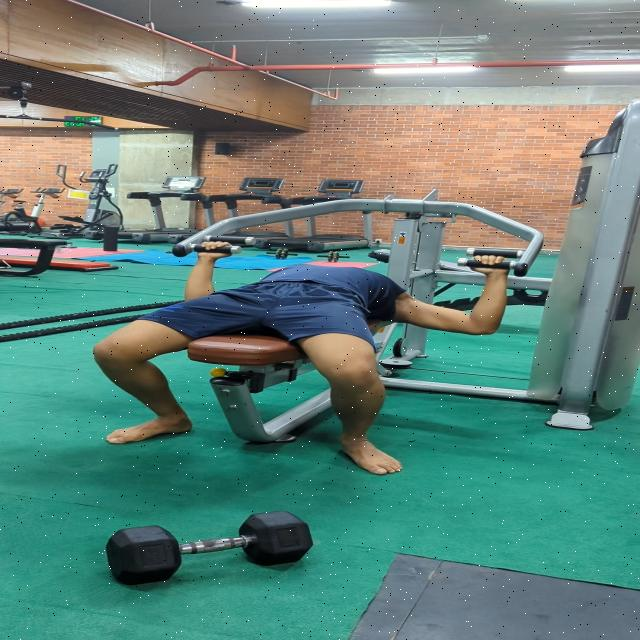Normal_BrenchPress: (69, 237, 514, 482)
